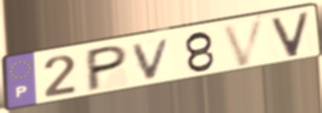2: (41, 53, 80, 100)
8: (183, 30, 216, 74)
P: (85, 42, 131, 94)
V: (220, 16, 268, 69), (268, 10, 312, 60), (130, 35, 175, 82)
